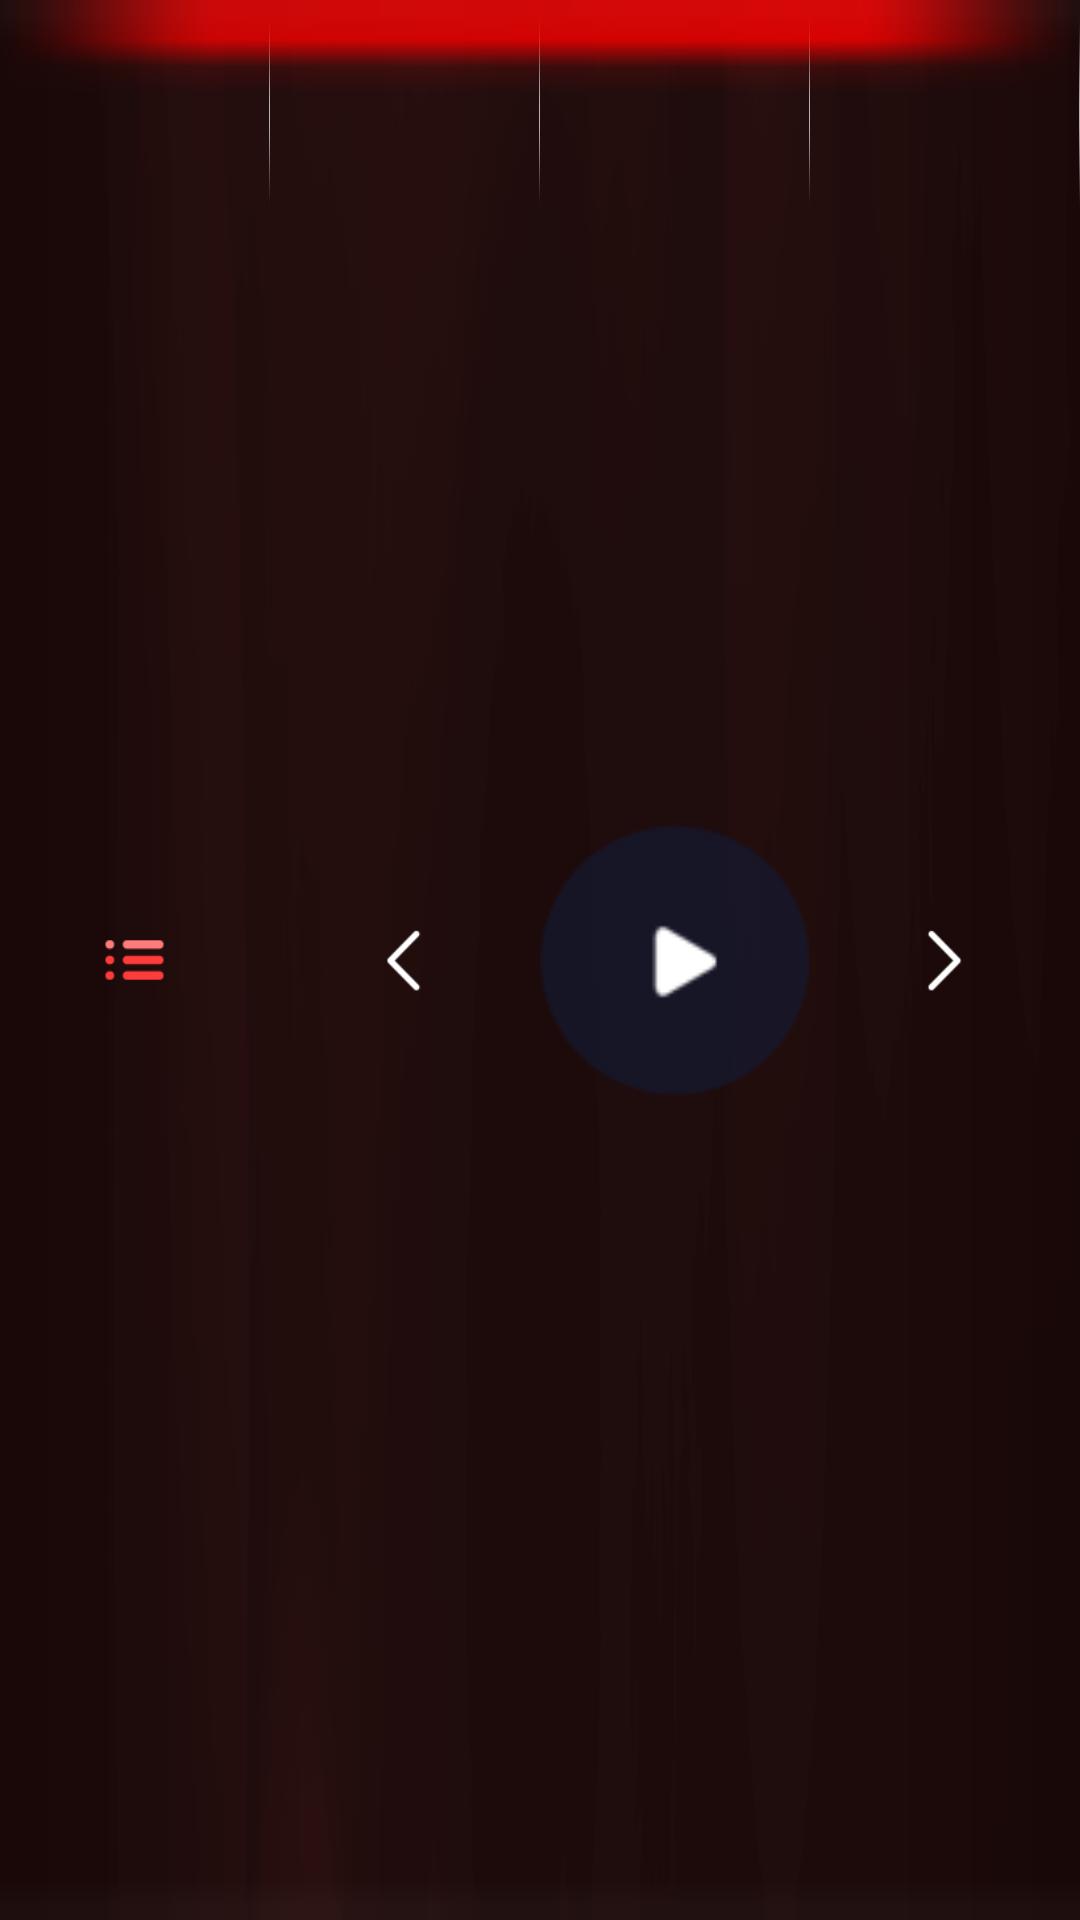

Screen size 1080w x 1920h. Icon name, then its center in pixels as (x,y):
play: (676,960)
